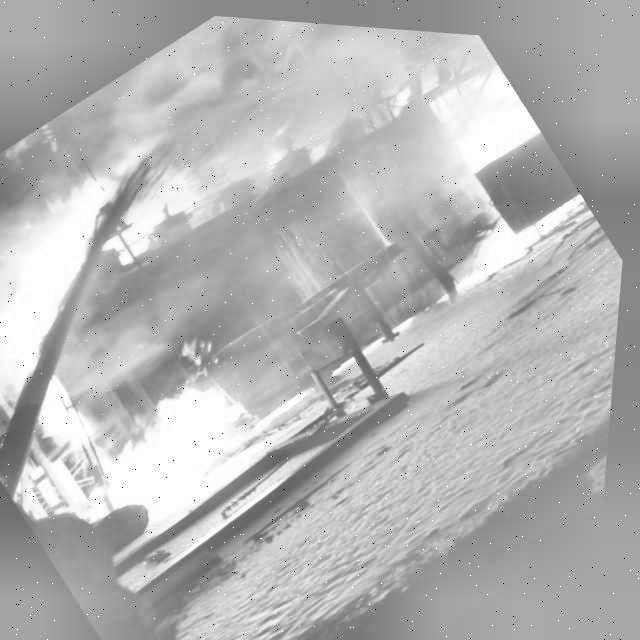Fire: (50, 4, 482, 270), (0, 283, 291, 587), (0, 135, 221, 392), (434, 159, 597, 299), (420, 48, 547, 174)
